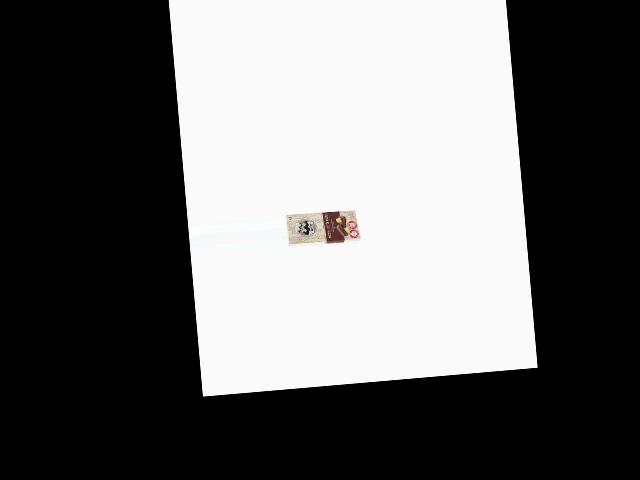chocolate: (285, 207, 362, 252)
